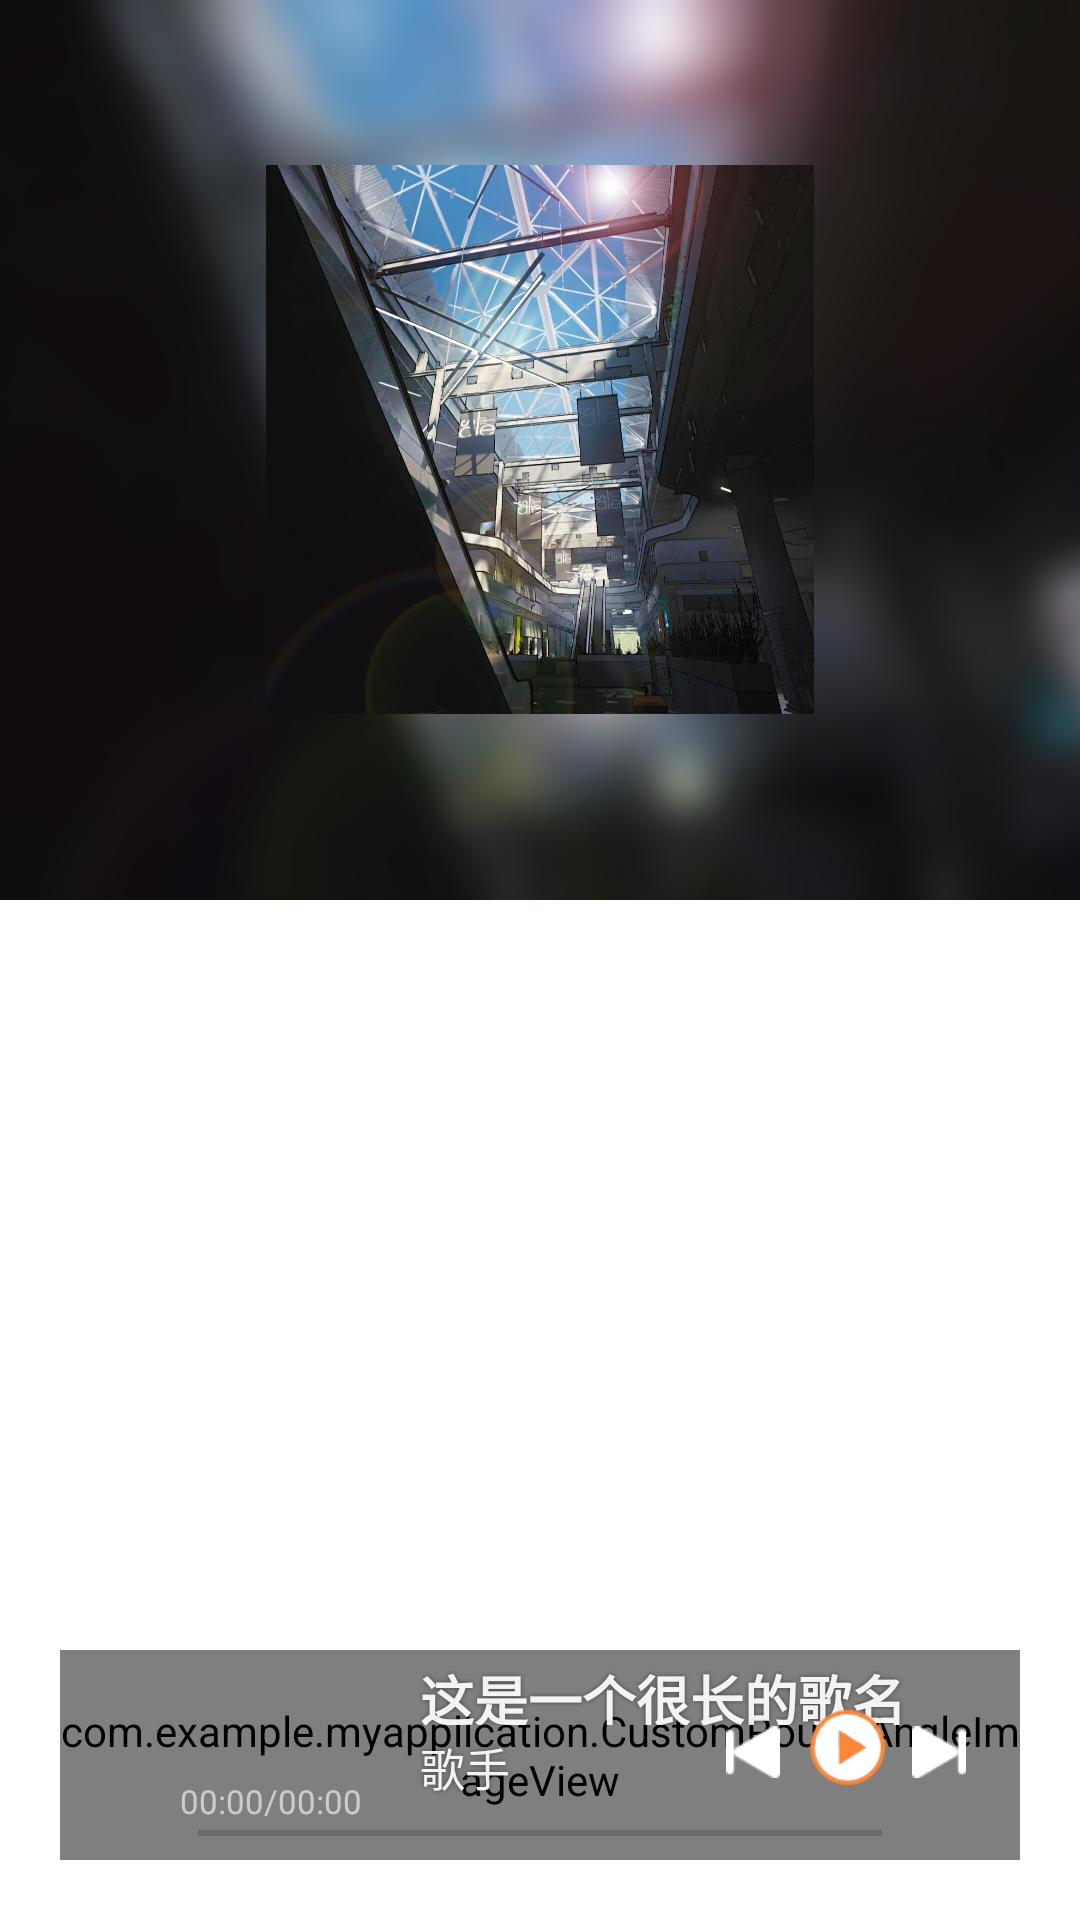

Named icons in this screenshot (1080×1920) and their centers, (x=x, y=y):
last: (x=753, y=1751)
next: (x=939, y=1751)
play: (x=847, y=1747)
